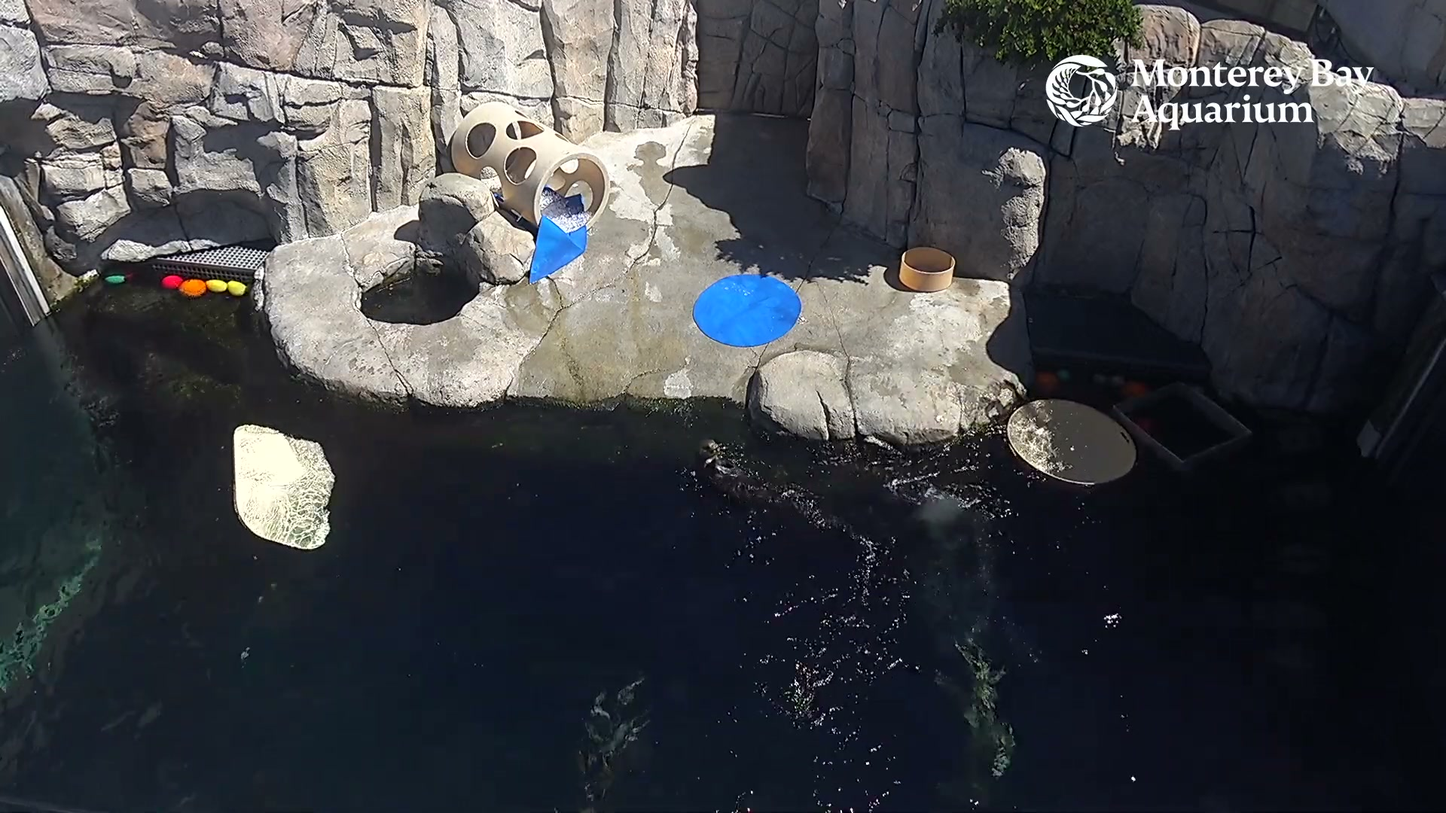Southern Sea Otter: (666, 437, 909, 603)
